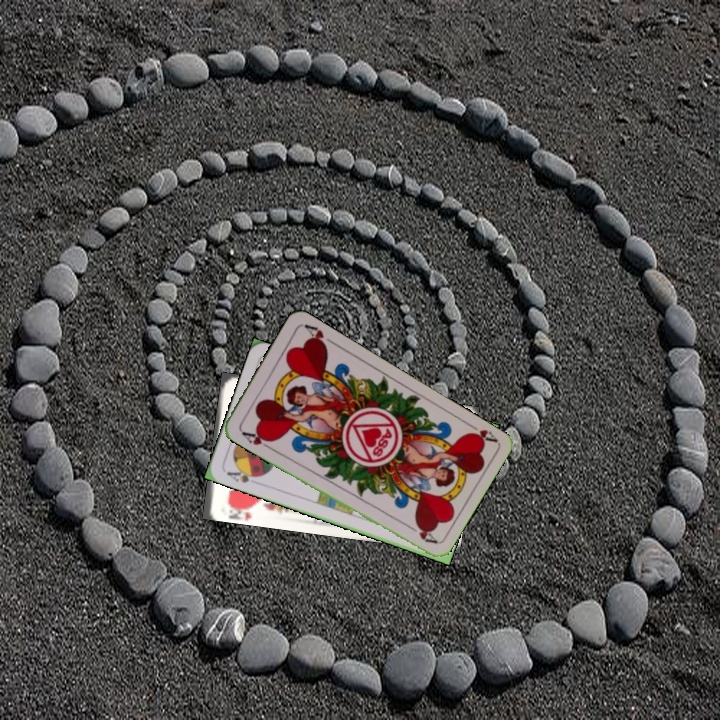HA: (461, 418, 499, 447), (236, 425, 275, 452)
HK: (223, 498, 259, 520)
SA: (222, 464, 263, 487)
